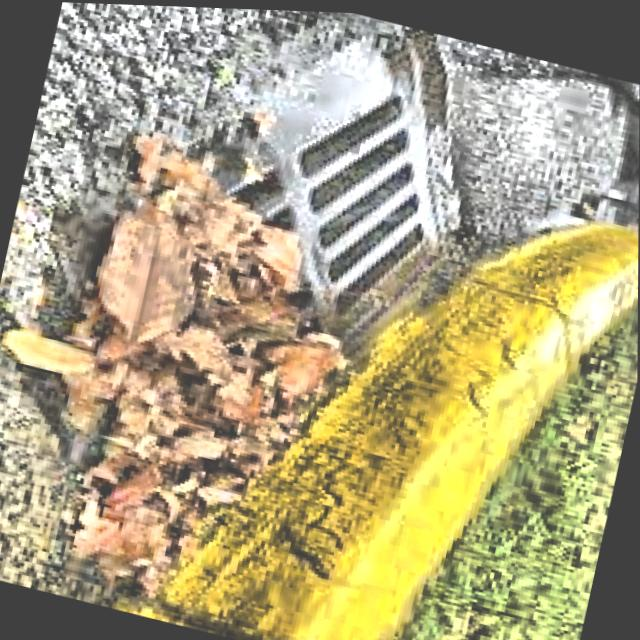clogged_drains: (76, 37, 441, 433)
